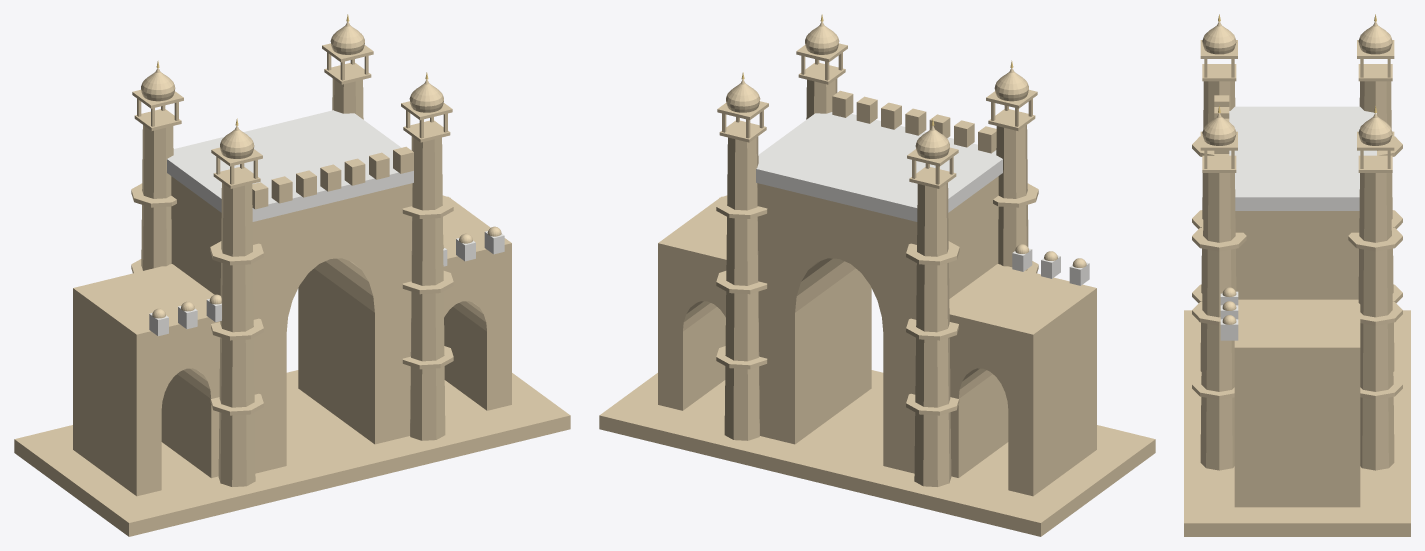
The model's file is harbour_arch.glb.
3 views of the same model, side by side, from view 1: azimuth 30°, elevation 25°; view 2: azimuth 150°, elevation 25°; view 3: azimuth 270°, elevation 25° (orthographic).
Parts seen in each view (by area): view 1: Cube.001, Cube.002, Cube, Cube.034, Cube.018, Cone, Cone.010, Cone.005, Cone.015, dome.005, dome.001, dome.006 (+2 smaller); view 2: Cube.001, Cube.002, Cube, Cube.034, Cube.018, Cone.005, Cone.015, Cone, Cone.010, dome.006, dome, dome.005 (+2 smaller); view 3: Cube.018, Cube, Cube.034, Cube.001, Cone.015, Cone.010, Cone.005, Cone, dome, dome.001, dome.005, dome.006 (+15 smaller).
Part boxes in pixels (x1,y1,x2,y2): Cube.001: [171, 176, 412, 473]; Cube.002: [73, 264, 220, 496]; Cube: [14, 370, 570, 536]; Cube.034: [167, 110, 413, 221]; Cube.018: [443, 196, 511, 420]; Cone: [218, 183, 255, 486]; Cone.010: [410, 136, 445, 440]; Cone.005: [141, 125, 173, 270]; Cone.015: [332, 78, 363, 119]; dome.005: [409, 79, 443, 112]; dome.001: [141, 68, 175, 101]; dome.006: [330, 21, 364, 54]; Cube.001: [757, 176, 998, 473]; Cube.002: [949, 264, 1096, 496]; Cube: [599, 370, 1155, 536]; Cube.034: [756, 112, 1002, 221]; Cube.018: [658, 196, 726, 420]; Cone.005: [914, 183, 951, 486]; Cone.015: [724, 136, 759, 440]; Cone: [996, 125, 1028, 270]; Cone.010: [806, 78, 837, 119]; dome.006: [726, 79, 760, 112]; dome: [994, 68, 1028, 101]; dome.005: [805, 21, 839, 54]; Cube.018: [1234, 299, 1360, 507]; Cube: [1184, 310, 1410, 536]; Cube.034: [1229, 106, 1376, 210]; Cube.001: [1235, 211, 1359, 299]; Cone.015: [1358, 173, 1394, 470]; Cone.010: [1200, 173, 1236, 470]; Cone.005: [1359, 81, 1394, 371]; Cone: [1200, 81, 1235, 371]; dome: [1202, 21, 1236, 54]; dome.001: [1358, 21, 1392, 54]; dome.005: [1202, 113, 1236, 145]; dome.006: [1358, 113, 1392, 145].
Size of the model in its own units: 40 by 32.47 by 18.
